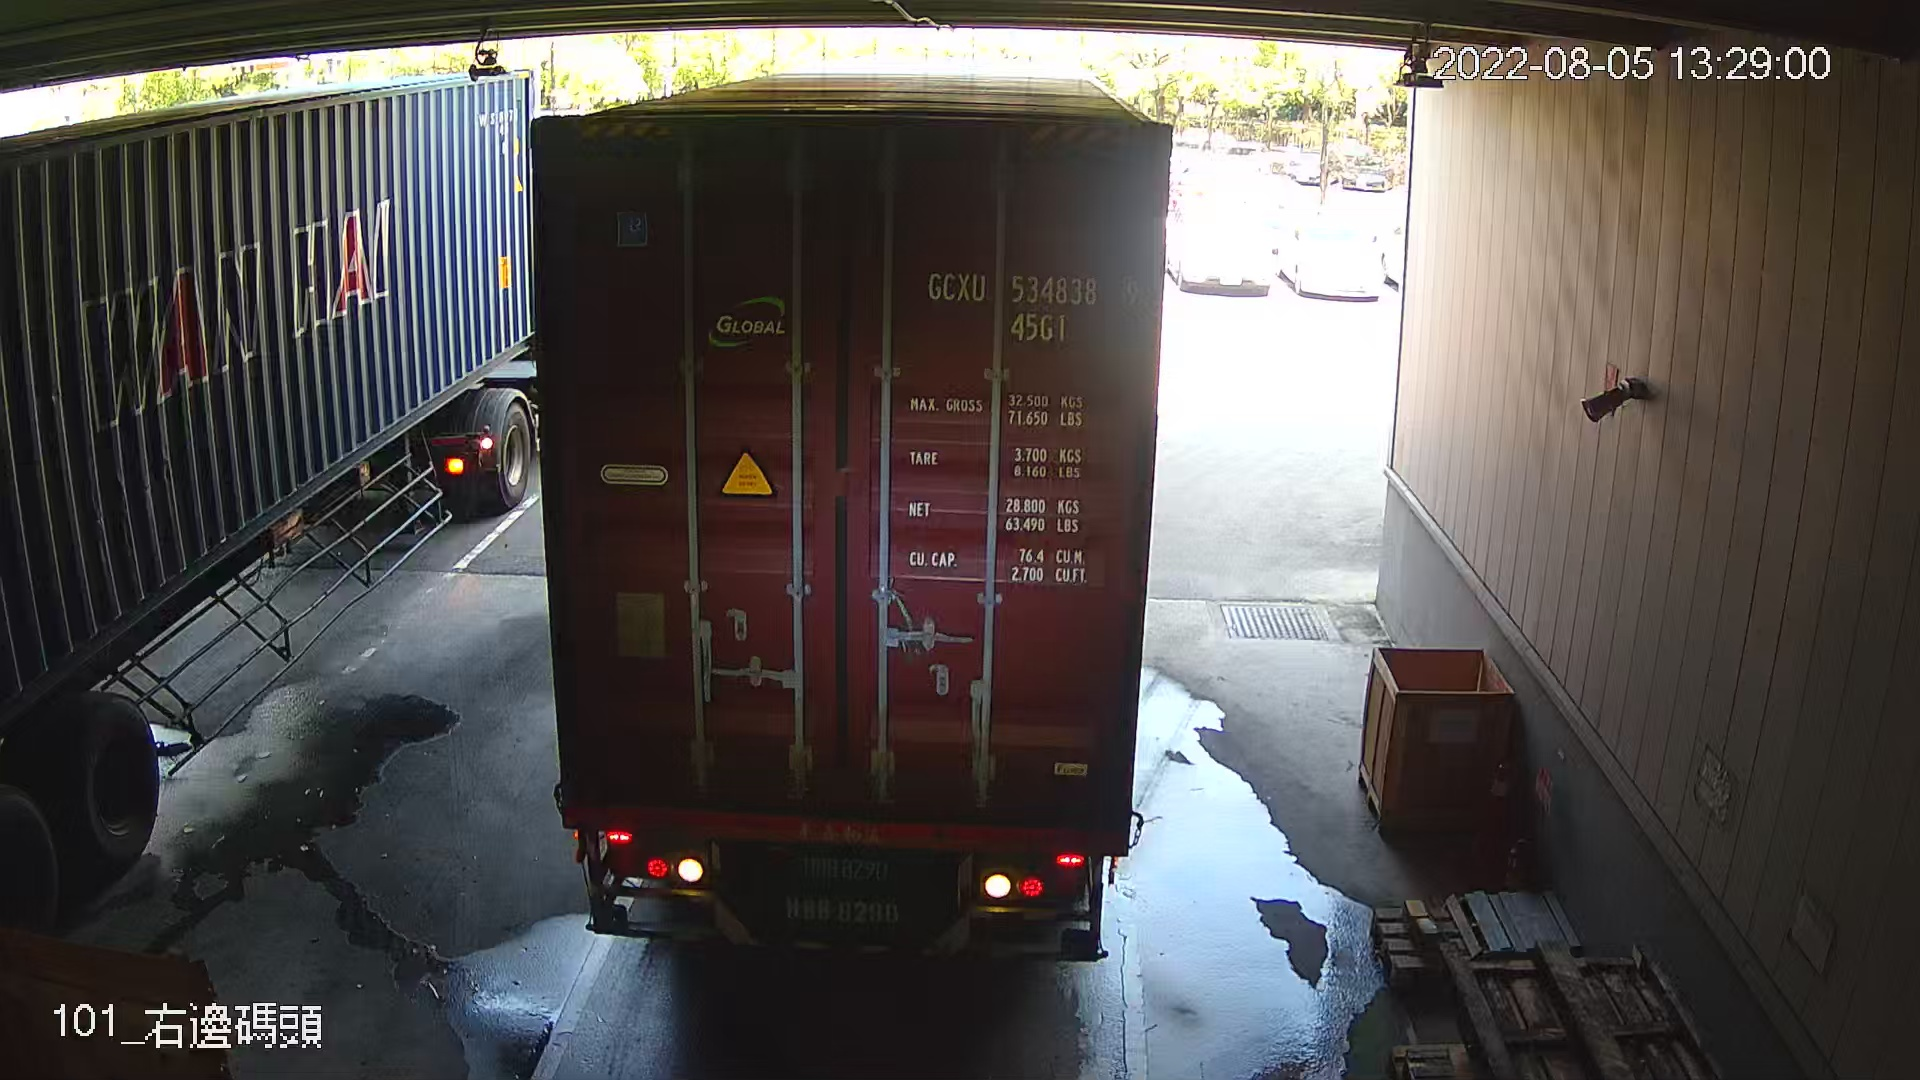container: (913, 252, 1153, 352)
